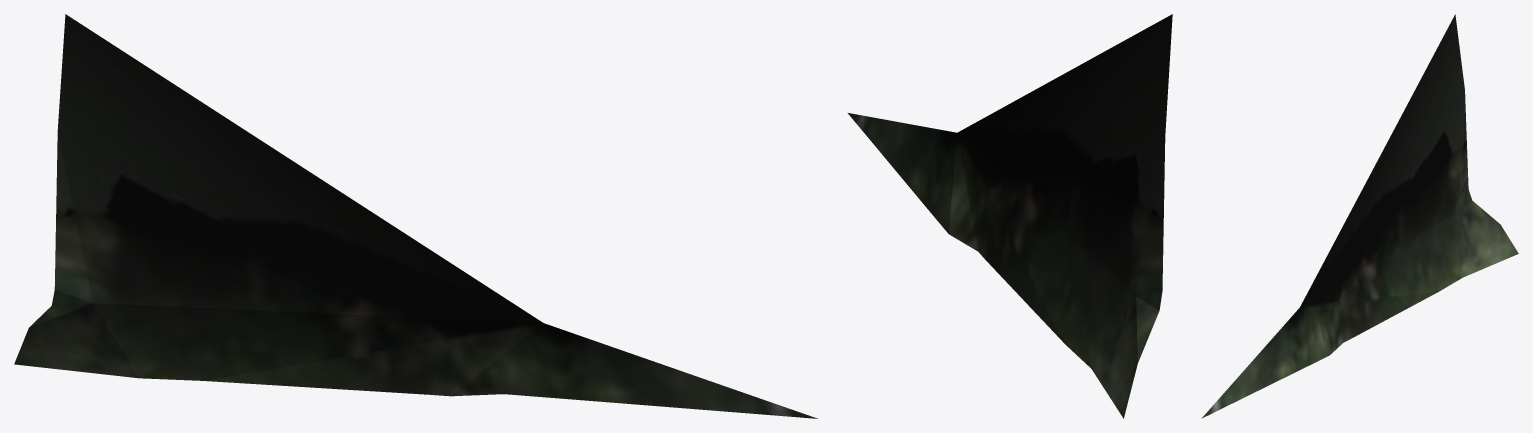
3 views of the same model, side by side, from view 1: azimuth 30°, elevation 25°; view 2: azimuth 150°, elevation 25°; view 3: azimuth 270°, elevation 25° (orthographic). The views are drawn at different scales.
Size of the model in its own units: 13.61 by 9.21 by 11.07.
1 material, 1 textured.
